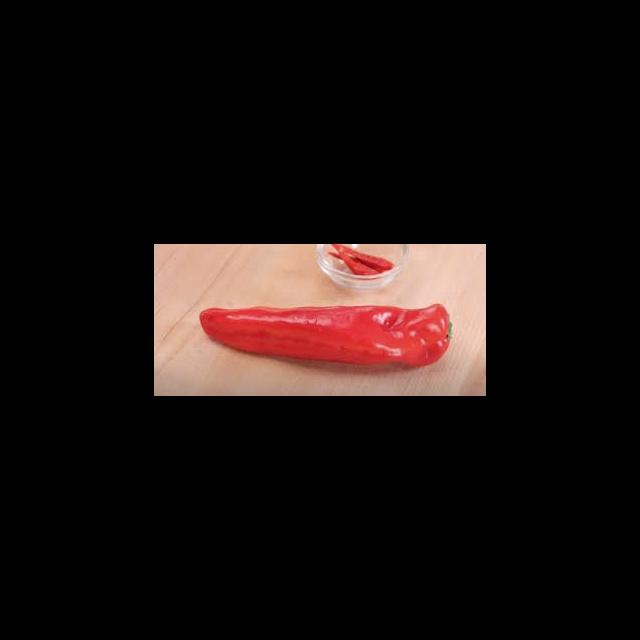chili_pepper: (198, 305, 485, 365), (328, 244, 395, 275)
